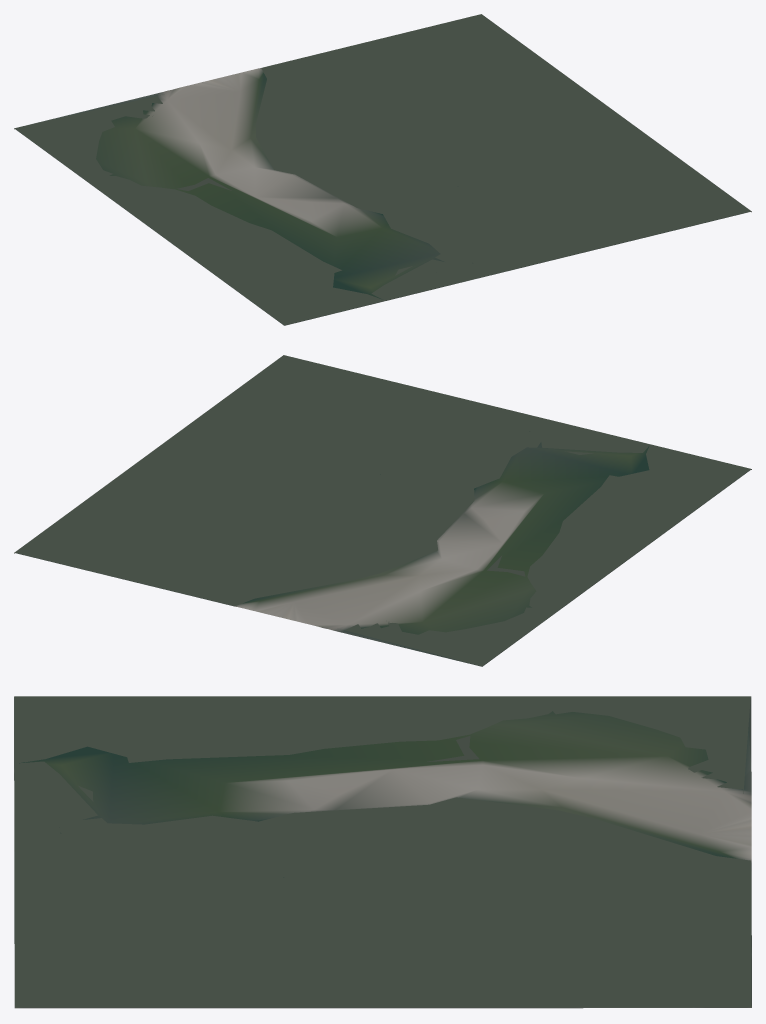
The picture shows the model from 3 angles, top to bottom: view 1: azimuth 30°, elevation 25°; view 2: azimuth 150°, elevation 25°; view 3: azimuth 270°, elevation 25°; orthographic projection. The views are drawn at different scales.
Visible parts, largest first — view 1: water, ground; view 2: water, ground; view 3: water, ground.
Boxes of the visible parts, bbox=[...] form: water: bbox=[15, 14, 750, 325]; ground: bbox=[14, 14, 751, 325]; water: bbox=[15, 355, 750, 666]; ground: bbox=[14, 355, 751, 666]; water: bbox=[14, 696, 751, 1007]; ground: bbox=[14, 696, 751, 1008].
Size of the model in its own units: 1403 by 3.68 by 1402.
